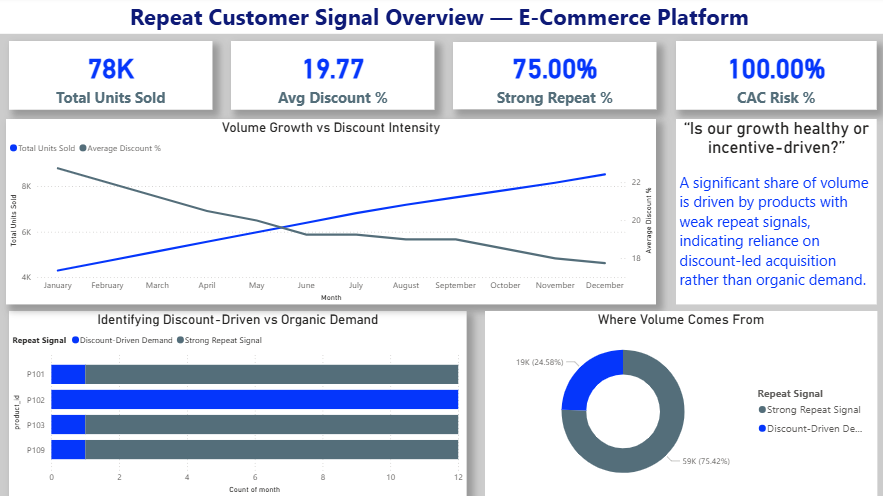

What the dashboard file says about the page in this screenshot:
{"tool":"powerbi","page":{"name":"Page 1","canvas":[1280,720],"ordinal":0},"visuals":[{"type":"textbox","box":[0,0,1280.2,53.3],"z":0},{"type":"card","fields":{"Values":["product_sales.Total Units Sold"]},"box":[20.3,63.9,293.2,98.7],"z":5000},{"type":"card","fields":{"Values":["product_sales.Avg Discount %"]},"box":[339.6,63.9,293.2,98.7],"z":6000},{"type":"card","fields":{"Values":["product_sales.Strong Repeat %"]},"box":[658.9,65.3,293.2,97.2],"z":7000},{"type":"card","fields":{"Values":["product_sales.CAC Risk %"]},"box":[981,63.9,288.8,98.7],"z":8000},{"type":"barChart","title":"Identifying Discount-Driven vs Organic Demand","fields":{"Category":["product_sales.product_id"],"Series":["product_sales.Repeat Signal"],"Y":["CountNonNull(product_sales.month)"]},"box":[20.3,452.8,658.9,267],"z":8001},{"type":"lineChart","title":"Volume Growth vs Discount Intensity","fields":{"Category":["product_sales.month.Variation.Date Hierarchy.Month"],"Y":["product_sales.Total Units Sold"],"Y2":["product_sales.Average Discount %"]},"box":[16,175.6,936.1,267],"z":8002},{"type":"donutChart","title":"Where Volume Comes From","fields":{"Category":["product_sales.Repeat Signal"],"Y":["product_sales.Units by Signal"]},"box":[705.3,452.8,564.5,267],"z":8003},{"type":"textbox","title":"“Is our growth healthy or incentive-driven?”","box":[981,176,289,267],"z":8004}]}

Visuals, with their boxes in screenshot pixels (x1, y1, x2, y2), scaled from the page's 1280x720 canvas onto the 883x496 screenshot:
textbox: (0,0,882,37)
card - product_sales.Total Units Sold: (14,44,216,112)
card - product_sales.Avg Discount %: (234,44,437,112)
card - product_sales.Strong Repeat %: (455,45,657,112)
card - product_sales.CAC Risk %: (677,44,876,112)
"Identifying Discount-Driven vs Organic Demand" barChart: (14,312,469,495)
"Volume Growth vs Discount Intensity" lineChart: (11,121,657,305)
"Where Volume Comes From" donutChart: (487,312,876,495)
"“Is our growth healthy or incentive-driven?”" textbox: (677,121,876,305)
